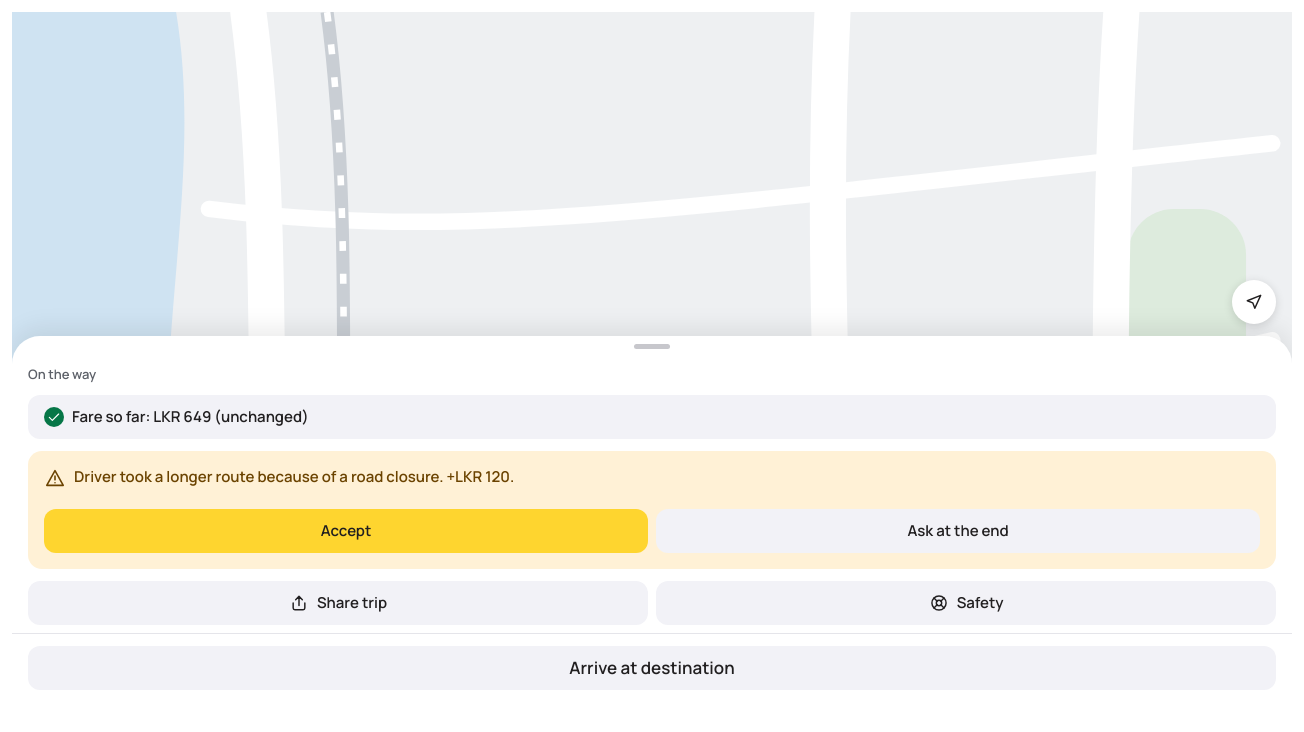
Scenario: Trip › accepting the route change updates the fare
The width and height of the screenshot is (1304, 732).
Check: the text "Driver took a longer route because of a road closure. +LKR 120." is shown, box [74, 467, 514, 487]
Check: the text "Fare so far: LKR 649 (unchanged)" is shown, box [72, 407, 309, 427]
Click the button "Accept" at {"x": 346, "y": 531}, box [44, 509, 648, 553]
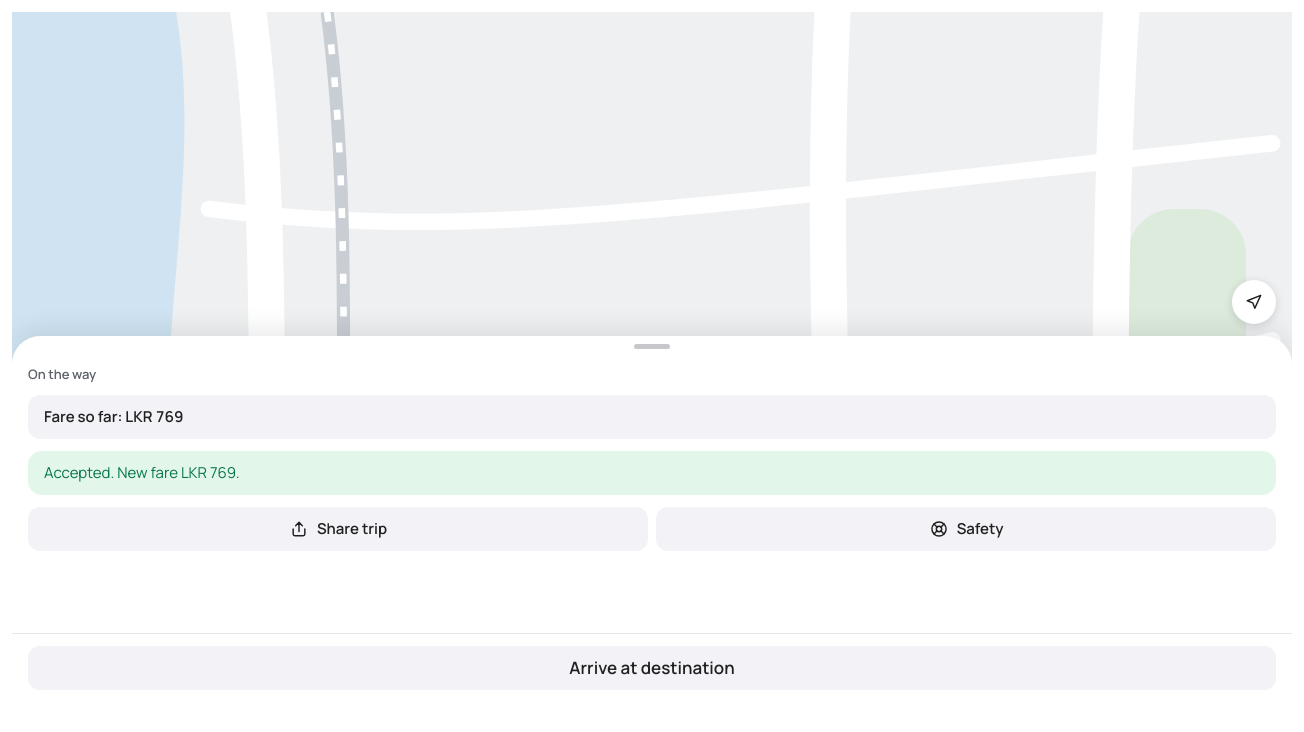
Check: the text "Fare so far: LKR 769" is shown, box [44, 407, 183, 427]
Check: the text "Accepted. New fare LKR 769." is shown, box [44, 462, 240, 483]
